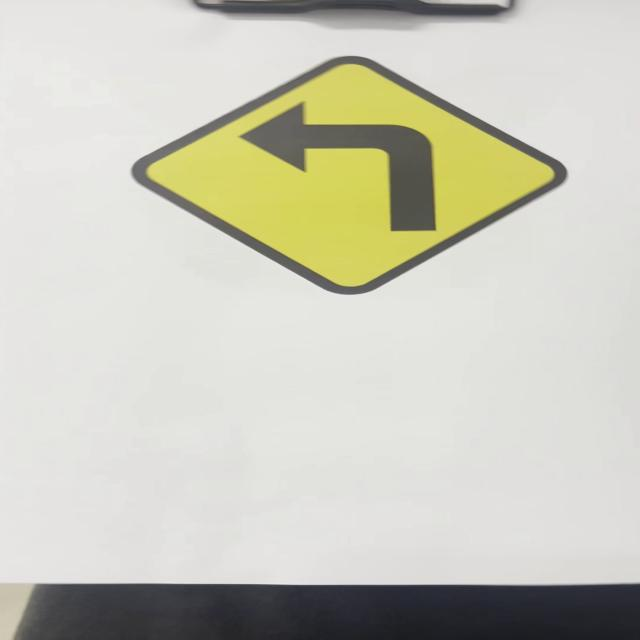left: (127, 59, 570, 296)
